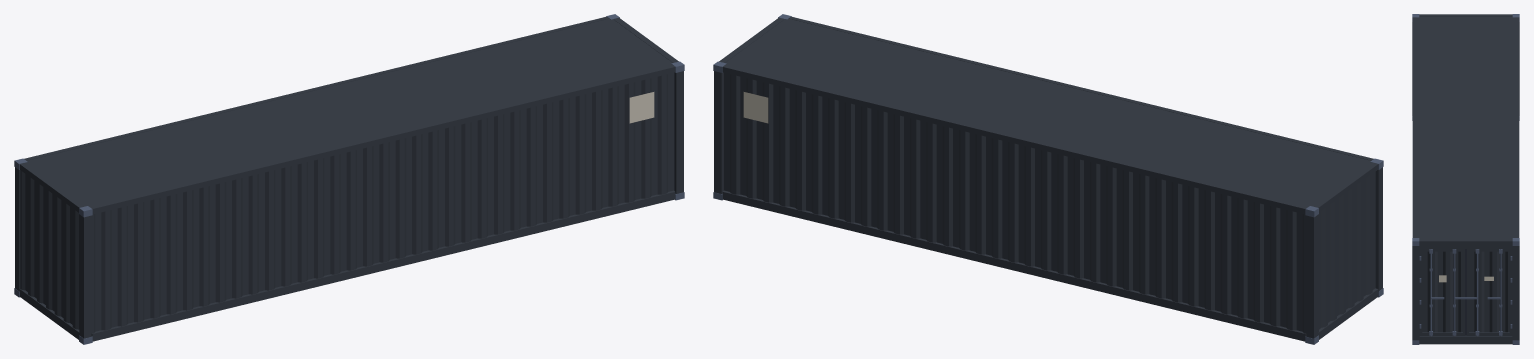
The model's file is port_container_40_graphite.glb.
3 views of the same model, side by side, from view 1: azimuth 30°, elevation 25°; view 2: azimuth 150°, elevation 25°; view 3: azimuth 270°, elevation 25° (orthographic). The views are drawn at different scales.
Visible parts, largest first — view 1: shell, stencil, hardware; view 2: shell, stencil, hardware; view 3: shell, hardware, interior.
Boxes of the visible parts, x1,y1,x2,y2 form: shell: [15, 16, 683, 341]; stencil: [629, 92, 654, 123]; hardware: [14, 14, 684, 344]; shell: [714, 16, 1382, 341]; stencil: [743, 92, 768, 123]; hardware: [713, 14, 1383, 344]; shell: [1412, 14, 1519, 344]; hardware: [1412, 14, 1519, 344]; interior: [1465, 249, 1466, 334].
Size of the model in its own units: 12.19 by 2.59 by 2.44.
